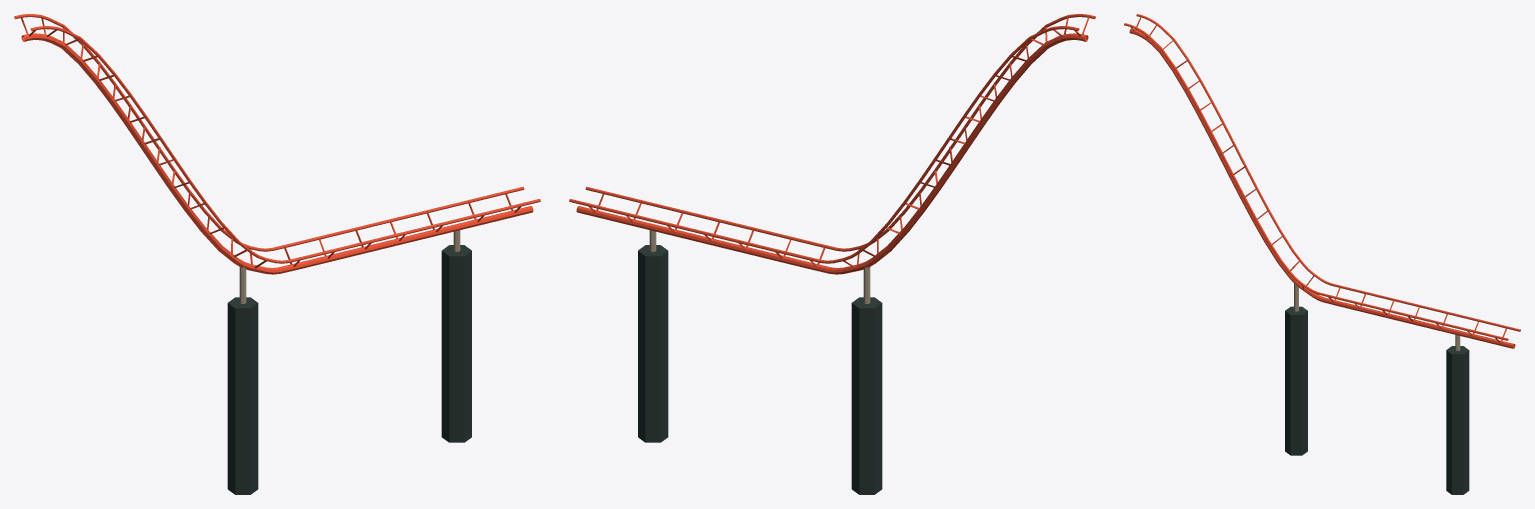
File: RollerCoaster_B_Down.fbx
The picture shows the model from 3 angles, left to right: view 1: azimuth 30°, elevation 25°; view 2: azimuth 150°, elevation 25°; view 3: azimuth 330°, elevation 25°; orthographic projection. The views are drawn at different scales.
Visible parts, largest first — view 1: RollerCoaster_B_Down; view 2: RollerCoaster_B_Down; view 3: RollerCoaster_B_Down.
Part boxes in pixels (x1,y1,x2,y2): RollerCoaster_B_Down: (14,14,540,494); RollerCoaster_B_Down: (569,14,1095,494); RollerCoaster_B_Down: (1124,14,1520,494).
Size of the model in its own units: 713 by 698 by 44.08.
